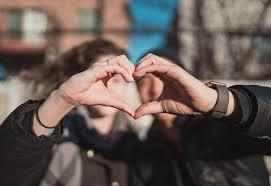Heart: (62, 52, 208, 122)
